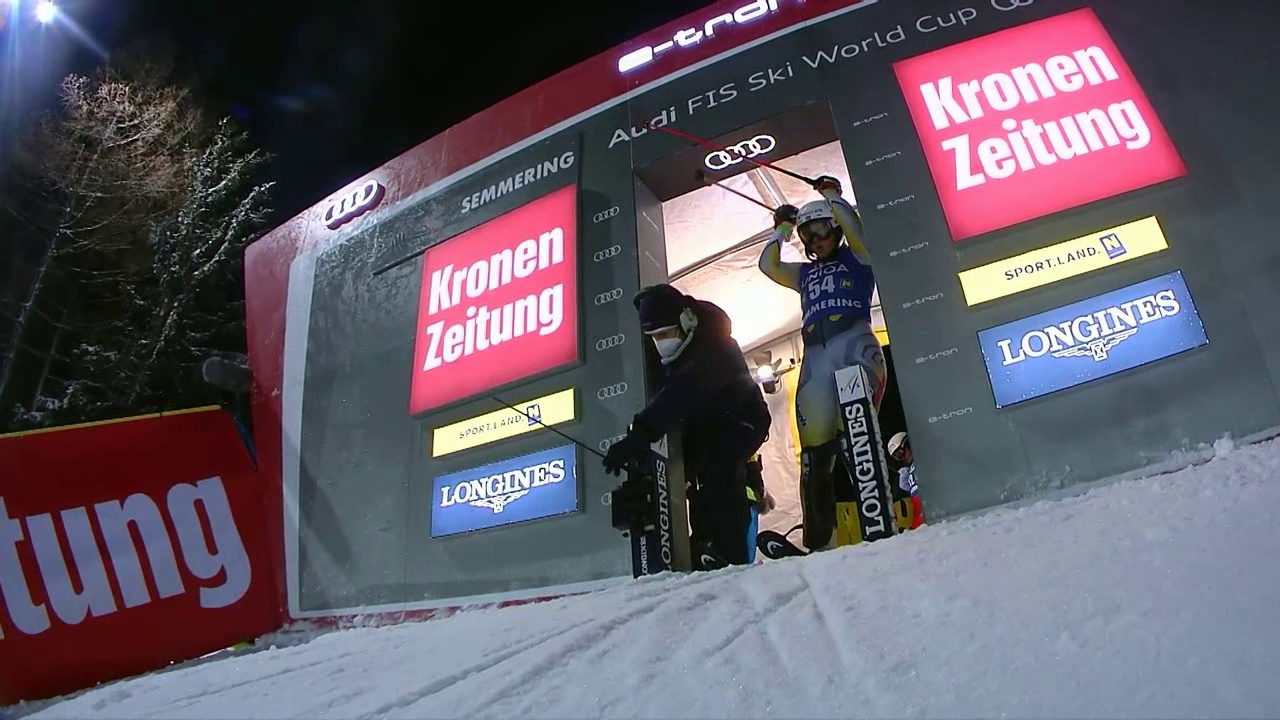audi: (318, 175, 388, 231), (695, 132, 782, 174), (595, 379, 634, 404), (990, 1, 1048, 17), (590, 202, 624, 228), (595, 331, 631, 355), (592, 243, 625, 266), (594, 286, 625, 309)
etron: (849, 108, 892, 131), (861, 147, 905, 169), (873, 192, 916, 212)
goesser: (10, 421, 234, 651)
kronenzeitung: (10, 421, 234, 651), (941, 36, 1137, 208), (434, 219, 557, 379)
longines: (991, 289, 1180, 397), (431, 453, 578, 531), (840, 381, 897, 547), (650, 442, 678, 578)
